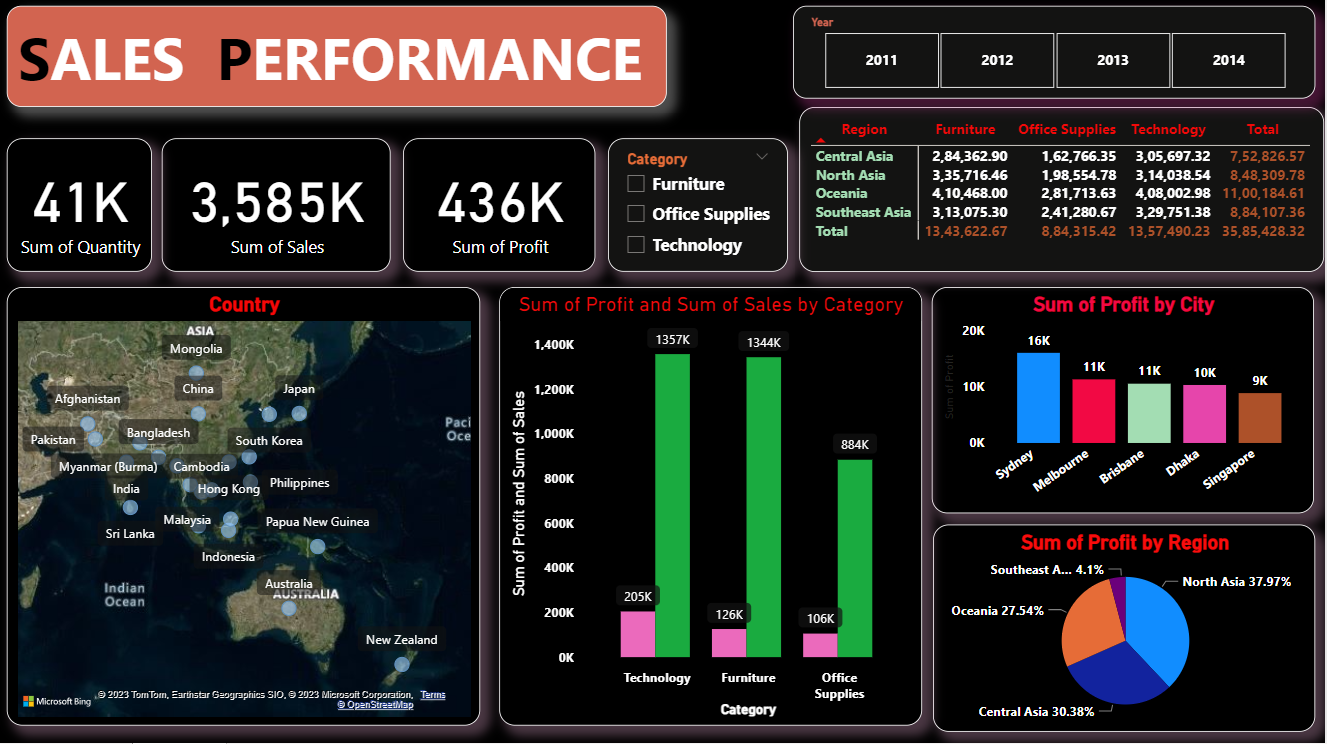

Layout of this report page (visuals, bound fields, positions):
{"tool":"powerbi","page":{"name":"Page 1","canvas":[1280,720],"ordinal":0},"visuals":[{"type":"card","fields":{"Values":["Sum(Orders.Profit)"]},"box":[390.8,136.3,185.7,129],"z":0},{"type":"card","fields":{"Values":["Sum(Orders.Sales)"]},"box":[158,136.3,220.7,129],"z":1000},{"type":"card","fields":{"Values":["Sum(Orders.Quantity)"]},"box":[8.4,136.3,139.9,129],"z":2000},{"type":"columnChart","fields":{"Category":["Orders.City"],"Y":["Sum(Orders.Profit)"]},"box":[900.9,279.8,369,218.3],"z":3000},{"type":"pieChart","fields":{"Y":["Sum(Orders.Profit)"],"Category":["Orders.Region"]},"box":[902.1,508.9,369,200.2],"z":4000},{"type":"map","fields":{"Category":["Orders.Country"]},"box":[8.4,279.8,457.1,423.3],"z":5000},{"type":"lineClusteredColumnComboChart","fields":{"Category":["Orders.Category"],"Y":["Sum(Orders.Profit)","Sum(Orders.Sales)"]},"box":[483.6,279.8,407.6,423.3],"z":6000},{"type":"pivotTable","fields":{"Columns":["Orders.Category"],"Values":["Sum(Orders.Sales)"],"Rows":["Orders.Region"]},"box":[773.1,106.1,506.5,159.2],"z":7000},{"type":"slicer","fields":{"Values":["Orders.Category"]},"box":[588.5,136.3,173.7,129],"z":8000},{"type":"textbox","box":[8.4,8.4,636.8,97.7],"z":9000},{"type":"slicer","fields":{"Values":["Orders.Order Date.Variation.Date Hierarchy.Year"]},"box":[767,8.4,504.1,89.2],"z":10000}]}

Visuals, with their boxes in screenshot pixels (x1, y1, x2, y2), scaled from the page's 1280x720 canvas onto the 1327x744 screenshot:
card - Sum(Orders.Profit): (405,141,598,274)
card - Sum(Orders.Sales): (164,141,393,274)
card - Sum(Orders.Quantity): (9,141,154,274)
columnChart - Orders.City x Sum(Orders.Profit): (934,289,1317,515)
pieChart - Sum(Orders.Profit) x Orders.Region: (935,526,1318,733)
map - Orders.Country: (9,289,483,727)
lineClusteredColumnComboChart - Orders.Category x Sum(Orders.Profit): (501,289,924,727)
pivotTable - Orders.Category x Sum(Orders.Sales): (801,110,1326,274)
slicer - Orders.Category: (610,141,790,274)
textbox: (9,9,669,110)
slicer - Orders.Order Date.Variation.Date Hierarchy.Year: (795,9,1318,101)
